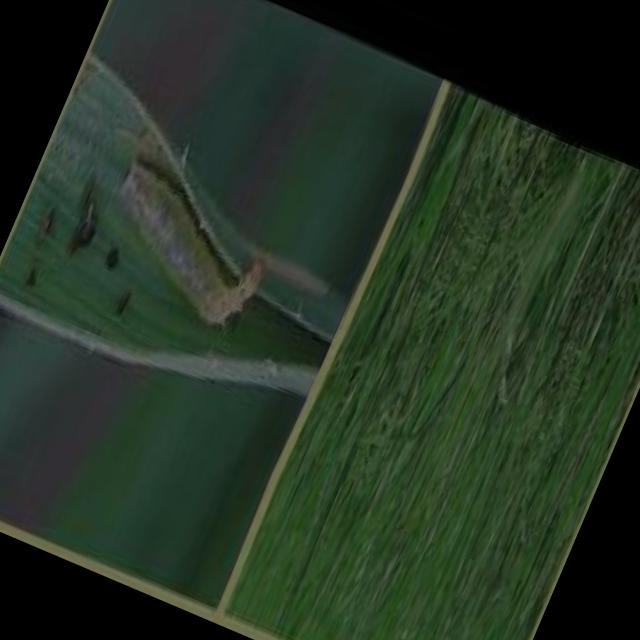leaf-folder: (43, 98, 324, 384)
